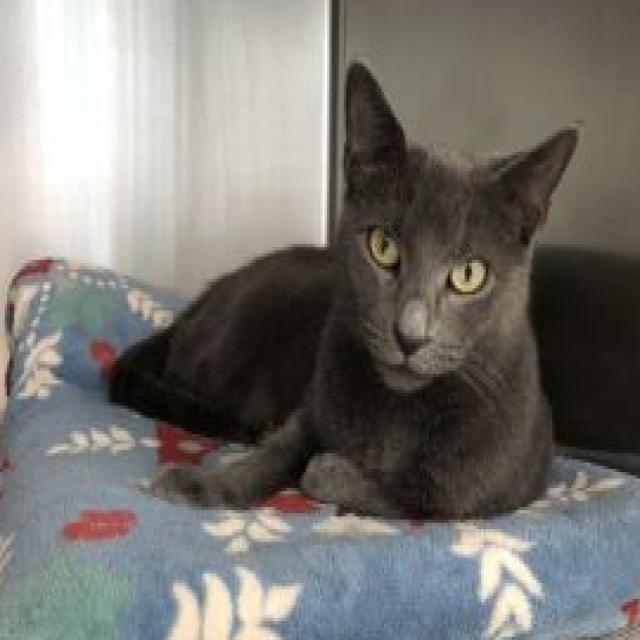Russian Blue: (105, 55, 582, 525)
